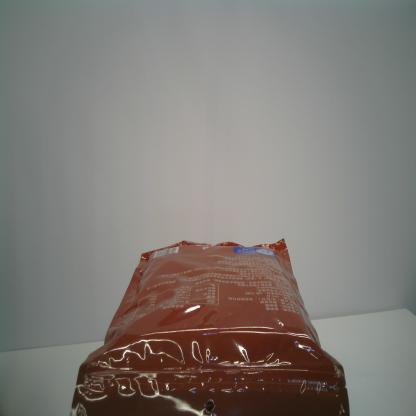Dried Food: (70, 238, 350, 416)
